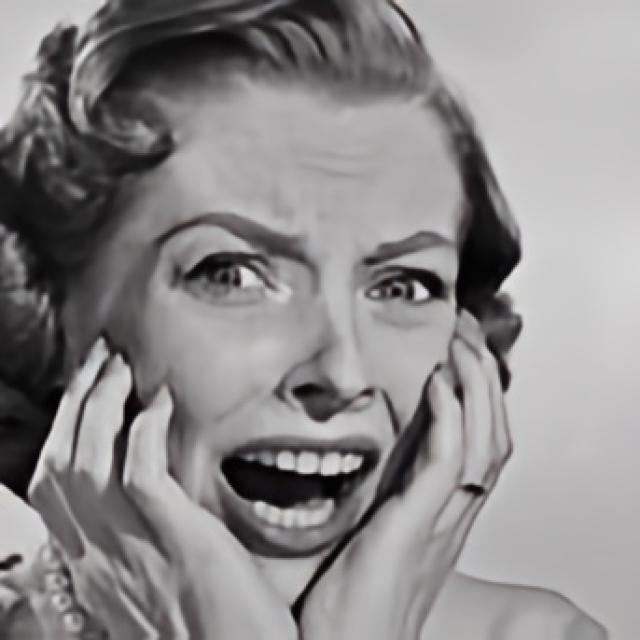fear: (74, 59, 464, 612)
